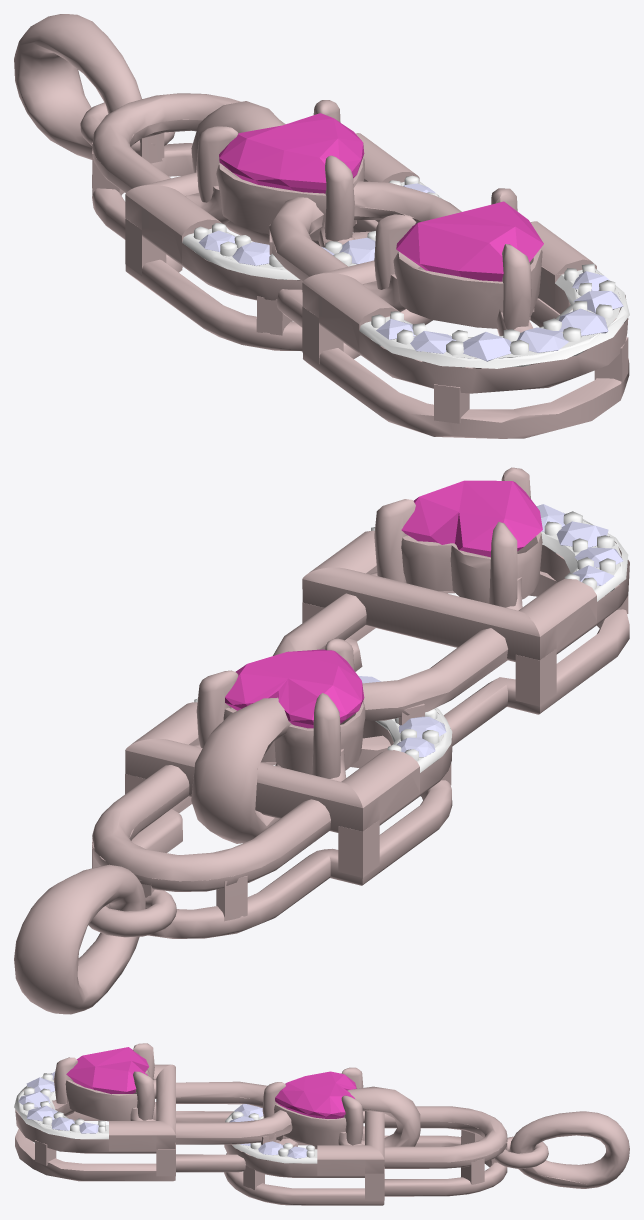
Rendered from DPN-D000733335.glb.
3 views of the same model, one above another, from view 1: azimuth 30°, elevation 25°; view 2: azimuth 150°, elevation 25°; view 3: azimuth 270°, elevation 25° (orthographic). The views are drawn at different scales.
Visible parts, largest first — view 1: lowPolyMesh, highPolyMesh; view 2: highPolyMesh, lowPolyMesh; view 3: highPolyMesh, lowPolyMesh.
Boxes of the visible parts, x1,y1,x2,y2 form: lowPolyMesh: (191, 101, 629, 438); highPolyMesh: (14, 14, 442, 351); highPolyMesh: (14, 638, 452, 1014); lowPolyMesh: (191, 467, 629, 843); highPolyMesh: (224, 1067, 629, 1205); lowPolyMesh: (14, 1043, 420, 1181).
Size of the model in its own units: 0.00742 by 0.00651 by 0.0282.
